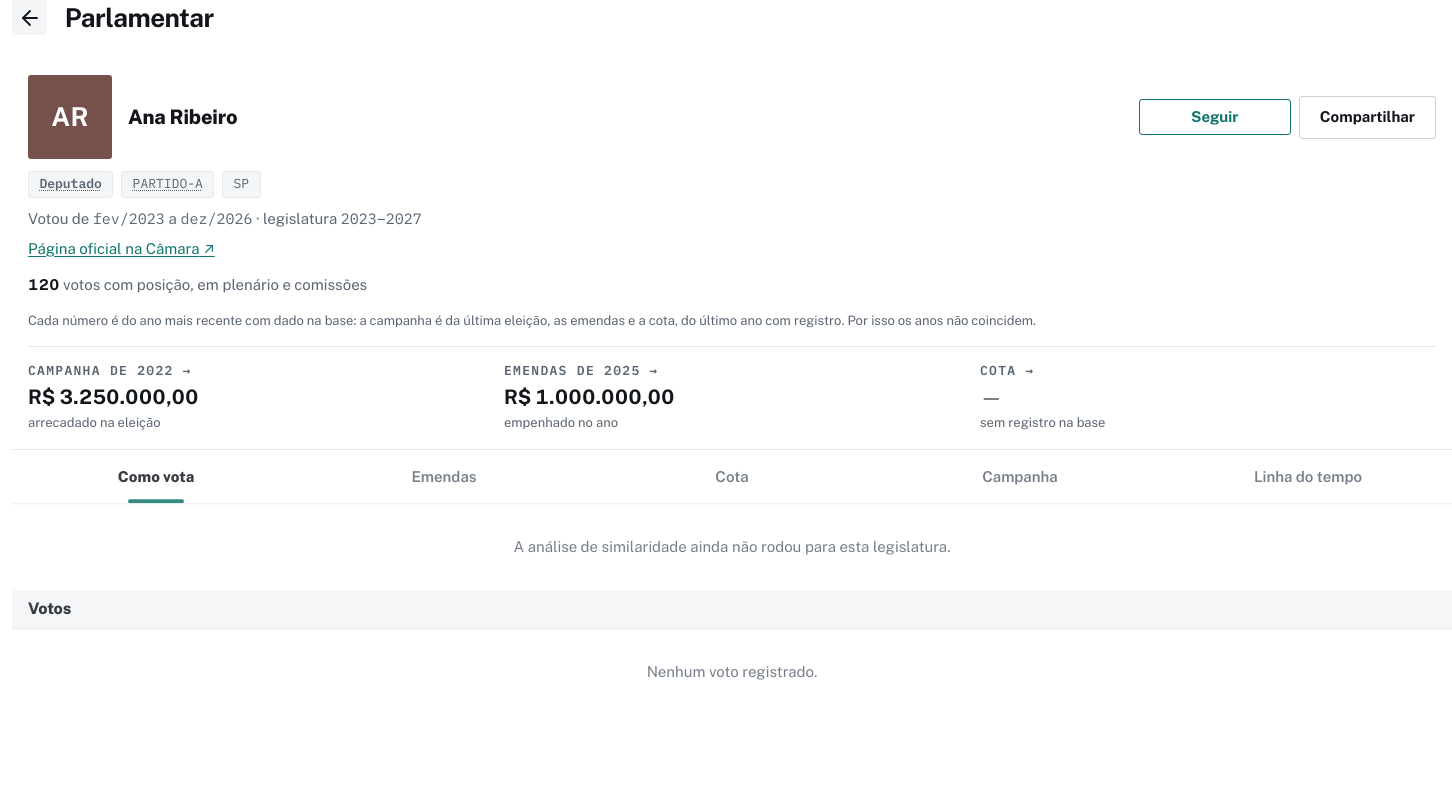
Test case: redes e patrimônio › o patrimônio mostra a última declaração e a anterior, sem porcentagem
Click the link "Campanha" at x=1020, y=477, box x1=982 y1=468 x2=1058 y2=485
(page scrolled)
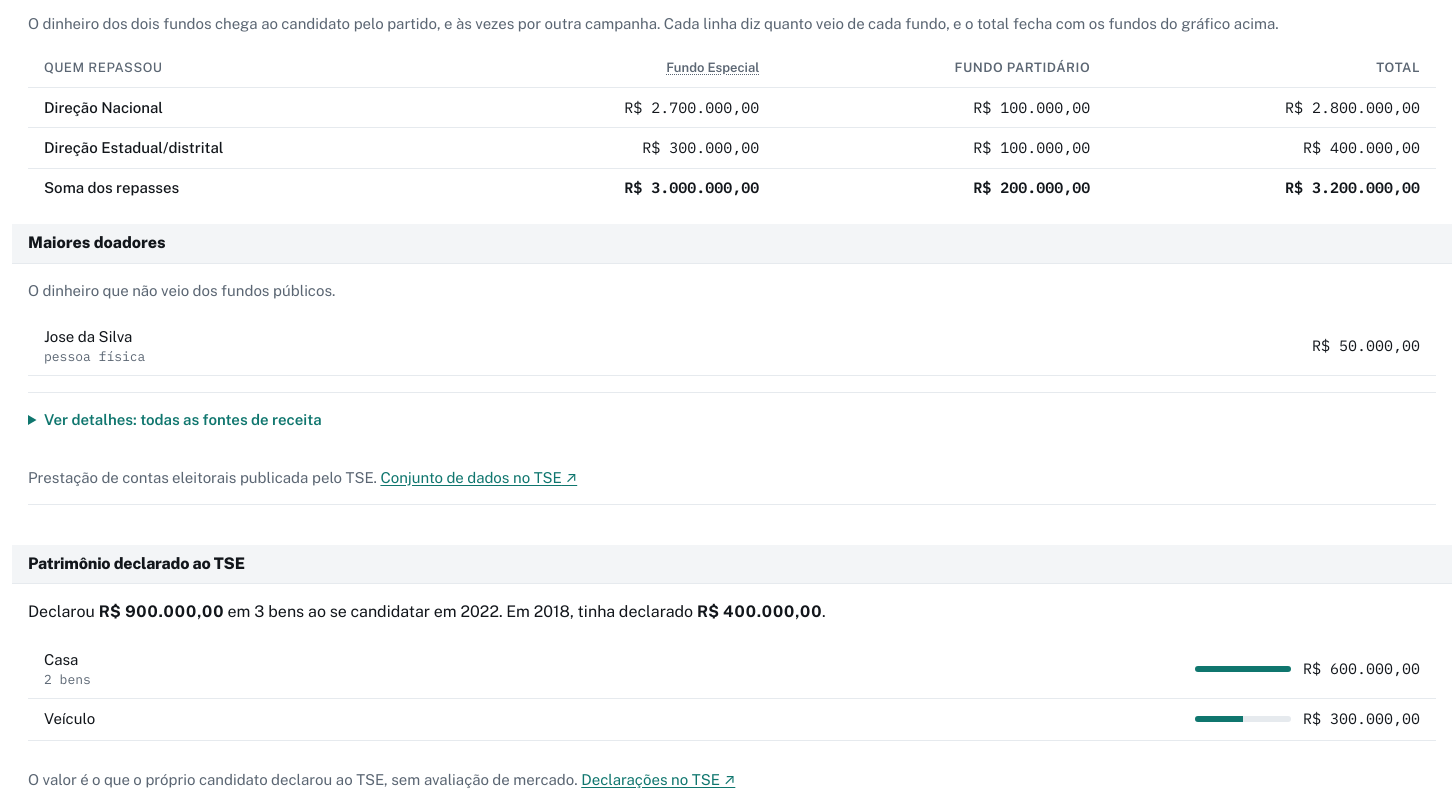
Expected: the text "sem avaliação de mercado" is shown, x1=28 y1=771 x2=578 y2=788
